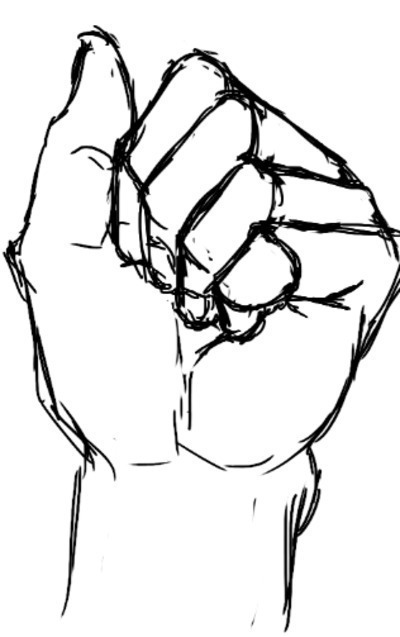closedhandfront: (5, 24, 393, 499)
